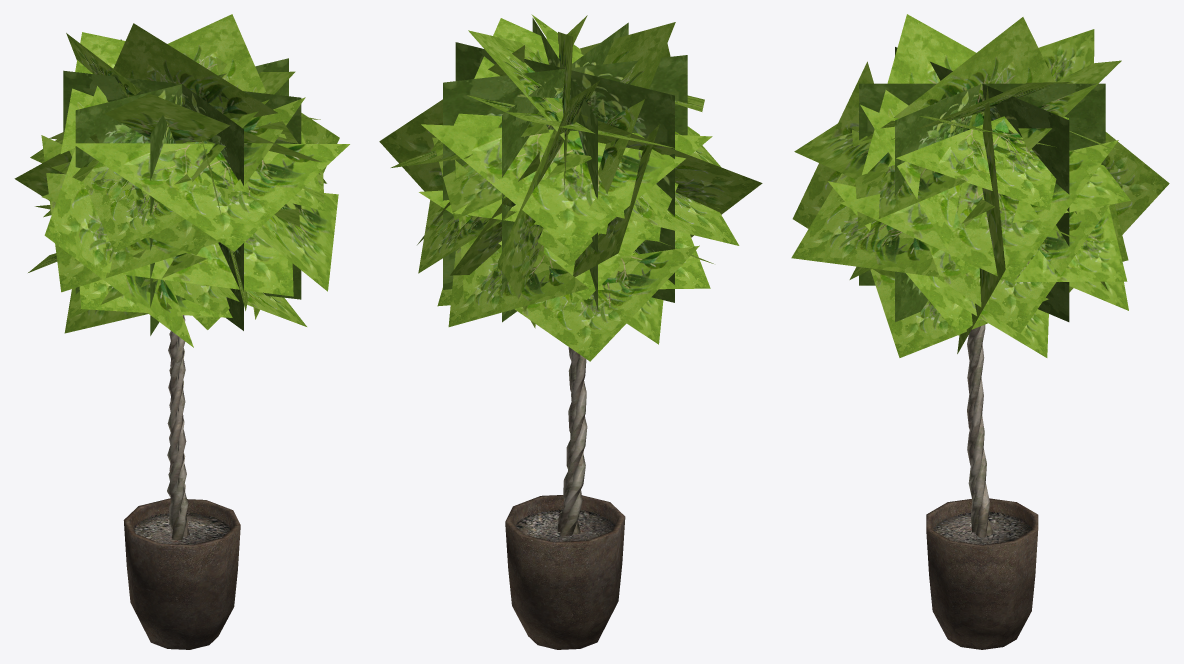
Rendered from Furniture_foliageplant_07b_LOD1 #39137.fbx.
3 renders of one model, left to right at view 1: azimuth 30°, elevation 25°; view 2: azimuth 150°, elevation 25°; view 3: azimuth 270°, elevation 25°, orthographic. The views are drawn at different scales.
Visible parts, largest first — view 1: F_foliageplant_07b_M, F_foliageplant_07b_M1; view 2: F_foliageplant_07b_M, F_foliageplant_07b_M1; view 3: F_foliageplant_07b_M, F_foliageplant_07b_M1.
Part boxes in pixels (x1,y1,x2,y2): F_foliageplant_07b_M: [14, 14, 349, 347]; F_foliageplant_07b_M1: [123, 315, 240, 649]; F_foliageplant_07b_M: [379, 14, 762, 361]; F_foliageplant_07b_M1: [505, 347, 625, 649]; F_foliageplant_07b_M: [791, 14, 1169, 357]; F_foliageplant_07b_M1: [926, 324, 1038, 649].
Bounding box in the file's own units: 1.18 × 2.03 × 1.15.
2 materials, 2 textured.
